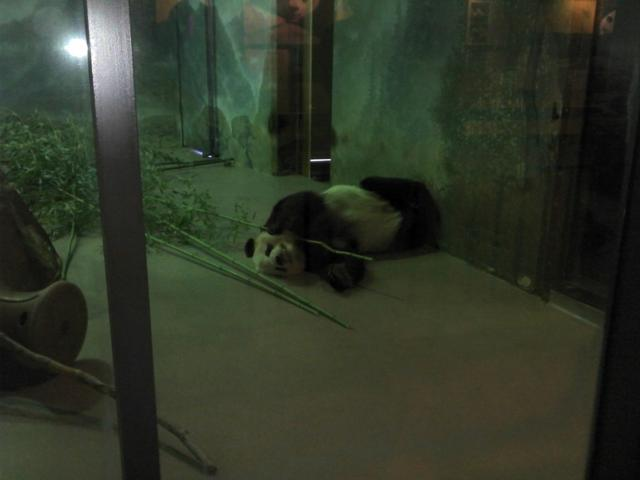panda: (192, 153, 465, 337)
